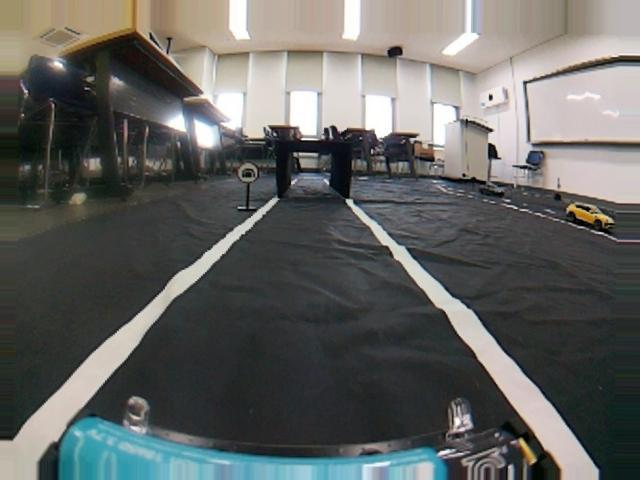sign_tunnel: (234, 160, 260, 185)
straight: (6, 216, 623, 477)
